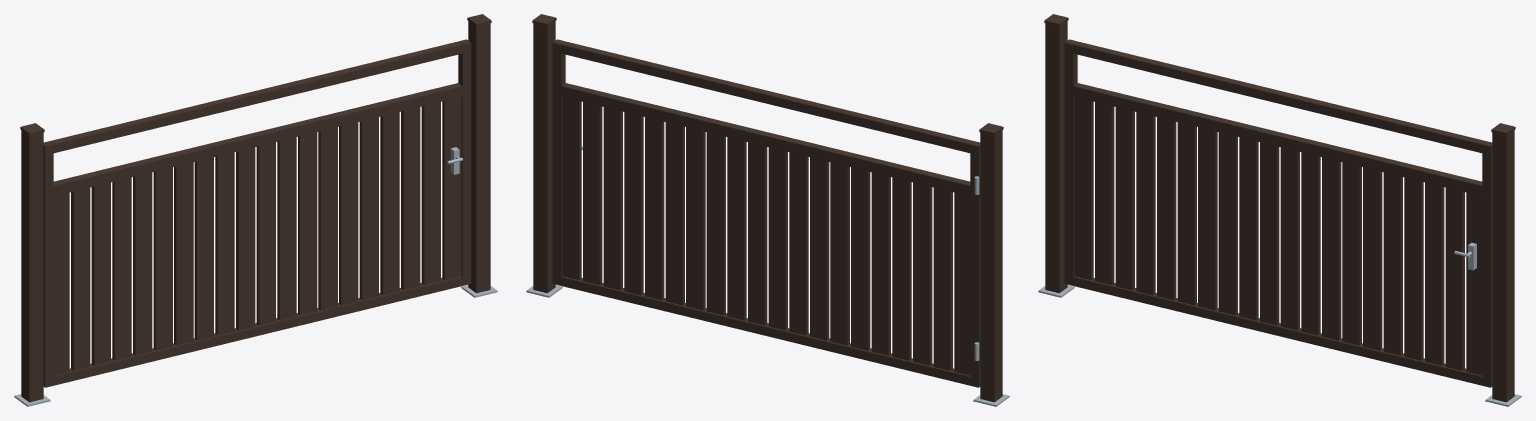
The model's file is 12-jednokrilna.glb.
The picture shows the model from 3 angles, left to right: view 1: azimuth 30°, elevation 25°; view 2: azimuth 150°, elevation 25°; view 3: azimuth 330°, elevation 25°; orthographic projection.
Parts seen in each view (by area): view 1: Ram_poprecni_ispod_otvora.001, Stub_levi.045, Ram_gornji.036, Stub_desni.045, Ram_donji.036, Ispuna_vertikalna_prava.007, Ispuna_vertikalna_prava.009, Ispuna_vertikalna_prava.010, Ispuna_vertikalna_prava.012, Ispuna_vertikalna_prava.015, Ispuna_vertikalna_prava.017, Ispuna_vertikalna_prava.018 (+15 smaller); view 2: Ram_poprecni_ispod_otvora.001, Stub_levi.045, Ram_gornji.036, Stub_desni.045, Ram_donji.036, Ispuna_vertikalna_prava.007, Ispuna_vertikalna_prava.009, Ispuna_vertikalna_prava.010, Ispuna_vertikalna_prava.012, Ispuna_vertikalna_prava.015, Ispuna_vertikalna_prava.017, Ispuna_vertikalna_prava.018 (+15 smaller); view 3: Ram_poprecni_ispod_otvora.001, Stub_desni.045, Ram_gornji.036, Stub_levi.045, Ram_donji.036, Ispuna_vertikalna_prava.009, Ispuna_vertikalna_prava.012, Ispuna_vertikalna_prava.013, Ispuna_vertikalna_prava.014, Ispuna_vertikalna_prava.016, Ispuna_vertikalna_prava.019, Ispuna_vertikalna_prava.021 (+15 smaller).
Part boxes in pixels (box(x1,y1,x2,y2)): Ram_poprecni_ispod_otvora.001: box(53, 83, 462, 196); Stub_levi.045: box(21, 130, 43, 402); Ram_gornji.036: box(49, 41, 462, 153); Stub_desni.045: box(468, 21, 490, 293); Ram_donji.036: box(53, 276, 462, 385); Ispuna_vertikalna_prava.007: box(71, 187, 90, 370); Ispuna_vertikalna_prava.009: box(112, 177, 131, 360); Ispuna_vertikalna_prava.010: box(133, 172, 152, 355); Ispuna_vertikalna_prava.012: box(174, 162, 193, 345); Ispuna_vertikalna_prava.015: box(236, 147, 255, 330); Ispuna_vertikalna_prava.017: box(277, 137, 296, 320); Ispuna_vertikalna_prava.018: box(298, 132, 317, 315); Ram_poprecni_ispod_otvora.001: box(561, 83, 970, 196); Stub_levi.045: box(980, 130, 1002, 402); Ram_gornji.036: box(561, 41, 974, 153); Stub_desni.045: box(533, 21, 555, 293); Ram_donji.036: box(561, 276, 970, 385); Ispuna_vertikalna_prava.007: box(933, 187, 952, 370); Ispuna_vertikalna_prava.009: box(892, 177, 911, 360); Ispuna_vertikalna_prava.010: box(871, 172, 890, 355); Ispuna_vertikalna_prava.012: box(830, 162, 849, 345); Ispuna_vertikalna_prava.015: box(768, 147, 787, 330); Ispuna_vertikalna_prava.017: box(727, 137, 746, 320); Ispuna_vertikalna_prava.018: box(706, 132, 725, 315); Ram_poprecni_ispod_otvora.001: box(1073, 83, 1482, 196); Stub_desni.045: box(1492, 130, 1514, 402); Ram_gornji.036: box(1073, 41, 1486, 153); Stub_levi.045: box(1045, 21, 1067, 293); Ram_donji.036: box(1073, 276, 1482, 385); Ispuna_vertikalna_prava.009: box(1136, 112, 1155, 295); Ispuna_vertikalna_prava.012: box(1198, 127, 1217, 310); Ispuna_vertikalna_prava.013: box(1218, 132, 1237, 315); Ispuna_vertikalna_prava.014: box(1239, 137, 1258, 320); Ispuna_vertikalna_prava.016: box(1280, 147, 1299, 330); Ispuna_vertikalna_prava.019: box(1342, 162, 1361, 345); Ispuna_vertikalna_prava.021: box(1383, 172, 1402, 355).
Size of the model in its own units: 3.26 by 1.8 by 0.19.
